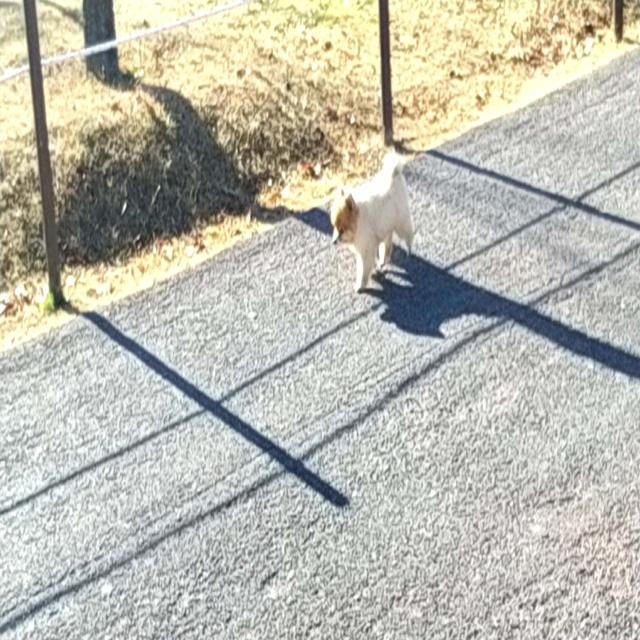Dog: (330, 145, 413, 295)
